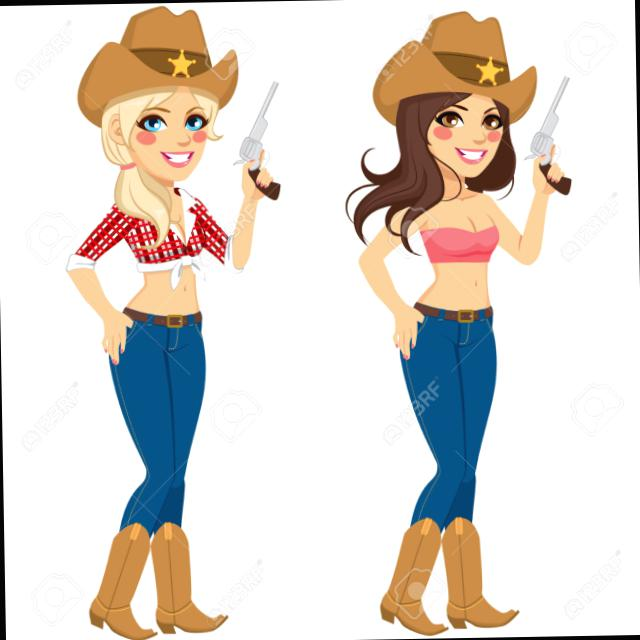handgun: (522, 75, 572, 196), (233, 80, 282, 201)
